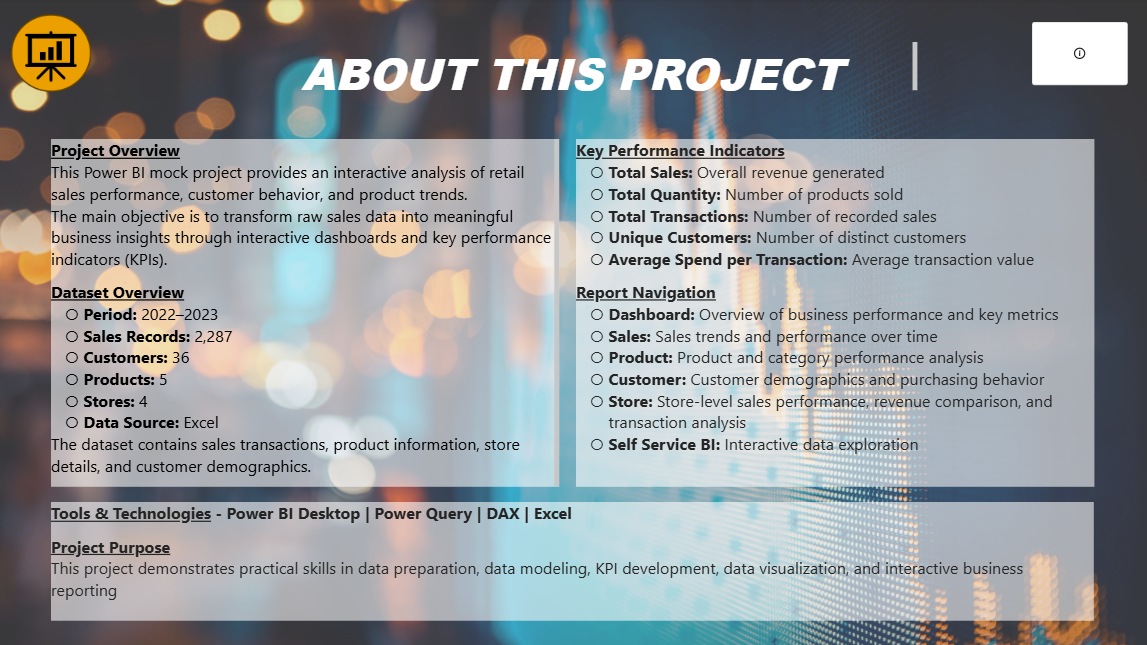

The page's visual inventory and layout, read from the dashboard file:
{"tool":"powerbi","page":{"name":"Info","canvas":[1920,1080],"ordinal":1},"visuals":[{"type":"actionButton","box":[1717.8,39.7,158.7,104.9],"z":1000},{"type":"image","box":[22.5,20,132.5,142.5],"z":3000},{"type":"textbox","box":[390,73.3,1136.7,90],"z":3001},{"type":"textbox","box":[90,233.3,843.3,576.7],"z":3002},{"type":"textbox","box":[960,233.3,860,576.7],"z":3003},{"type":"textbox","box":[90,836.7,1730,196.7],"z":3004}]}

Visuals, with their boxes in screenshot pixels (x1, y1, x2, y2), scaled from the page's 1920x1080 canvas onto the 1147x645 screenshot:
actionButton: <box>1026,24,1121,86</box>
image: <box>13,12,93,97</box>
textbox: <box>233,44,912,98</box>
textbox: <box>54,139,558,484</box>
textbox: <box>574,139,1087,484</box>
textbox: <box>54,500,1087,617</box>
